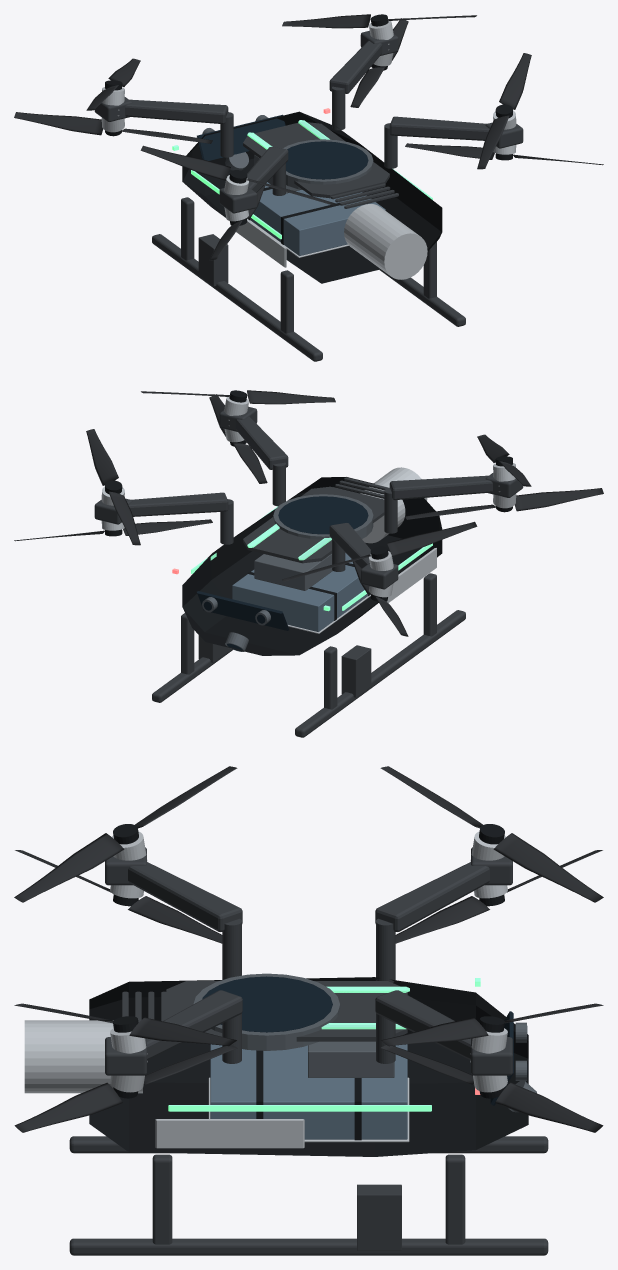
File: titan_df8.glb
3 renders of one model, top to bottom at view 1: azimuth 30°, elevation 25°; view 2: azimuth 150°, elevation 25°; view 3: azimuth 270°, elevation 25°, orthographic. The views are drawn at different scales.
Visible parts, largest first — view 1: body_core, equipment_battery, frame_rtg, body_core_top_panel, sensor_hga_face, landing_skid_left, arm_fl_l, arm_rr_l, rotor_fl_l_blades, rotor_rr_u_blades, rotor_rl_u_blades, body_core_visor (+19 smaller); view 2: body_core, equipment_battery, body_core_top_panel, sensor_hga_face, landing_skid_left, arm_rl_l, equipment_fc_housing, arm_fr_l, rotor_rl_l_blades, rotor_fr_u_blades, equipment_drill_left, rotor_fl_u_blades (+23 smaller); view 3: body_core, equipment_battery, landing_skid_right, frame_rtg, sensor_hga_face, body_core_side_panel_right, body_core_top_panel, arm_fl_l, arm_rl_l, equipment_drill_right, rotor_fl_u_blades, rotor_rl_u_blades (+25 smaller).
Part boxes in pixels (box(x1,y1,x2,y2)): body_core: box(182, 111, 442, 283); equipment_battery: box(250, 182, 385, 255); frame_rtg: box(344, 204, 427, 279); body_core_top_panel: box(243, 122, 389, 198); sensor_hga_face: box(286, 141, 368, 179); landing_skid_left: box(152, 234, 322, 361); arm_fl_l: box(125, 99, 228, 124); arm_rr_l: box(389, 116, 489, 140); rotor_fl_l_blades: box(14, 112, 212, 143); rotor_rr_u_blades: box(477, 53, 531, 169); rotor_rl_u_blades: box(140, 145, 335, 205); body_core_visor: box(197, 114, 285, 160); body_core: box(182, 477, 442, 655); equipment_battery: box(232, 553, 367, 631); body_core_top_panel: box(243, 486, 384, 563); sensor_hga_face: box(278, 496, 368, 534); landing_skid_left: box(295, 610, 465, 737); arm_rl_l: box(389, 475, 492, 500); equipment_fc_housing: box(254, 554, 332, 590); arm_fr_l: box(128, 492, 228, 516); rotor_rl_l_blades: box(405, 488, 603, 519); rotor_fr_u_blades: box(86, 429, 140, 545); equipment_drill_left: box(341, 645, 371, 697); rotor_fl_u_blades: box(282, 521, 477, 581); body_core: box(89, 977, 528, 1156); equipment_battery: box(210, 1044, 407, 1139); landing_skid_right: box(69, 1238, 548, 1255); frame_rtg: box(24, 1020, 142, 1093); sensor_hga_face: box(202, 976, 332, 1032); body_core_side_panel_right: box(155, 1119, 304, 1148); body_core_top_panel: box(166, 981, 407, 1041); arm_fl_l: box(375, 862, 489, 931); arm_rl_l: box(128, 862, 242, 931); equipment_drill_right: box(357, 1184, 401, 1250); rotor_fl_u_blades: box(380, 766, 603, 902); rotor_rl_u_blades: box(14, 766, 237, 902).
Size of what is drawn, in the model's own units: 2.37 by 1.17 by 2.1.
